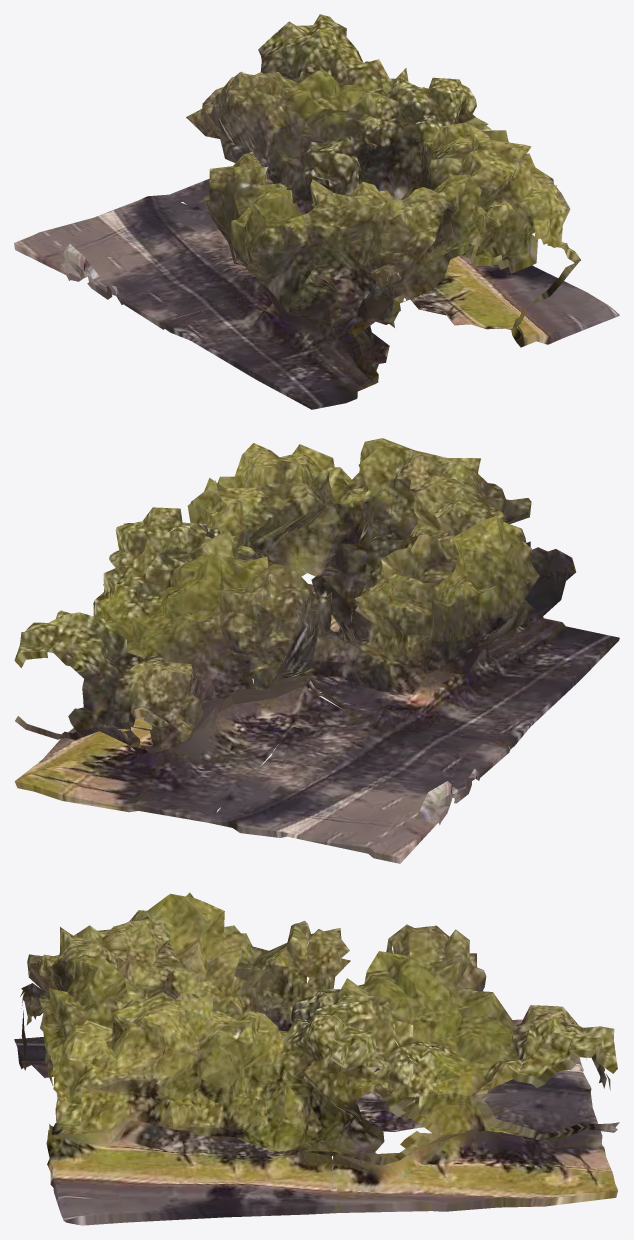
3 views of the same model, one above another, from view 1: azimuth 30°, elevation 25°; view 2: azimuth 150°, elevation 25°; view 3: azimuth 270°, elevation 25° (orthographic). The views are drawn at different scales.
Visible parts, largest first — view 1: Mesh_0; view 2: Mesh_0; view 3: Mesh_0.
Boxes of the visible parts, x1=… form: Mesh_0: x1=14, y1=14, x2=619, y2=409; Mesh_0: x1=14, y1=438, x2=619, y2=863; Mesh_0: x1=14, y1=892, x2=619, y2=1225.
Size of the model in its own units: 33.28 by 14.78 by 41.59.
1 material, 1 textured.
